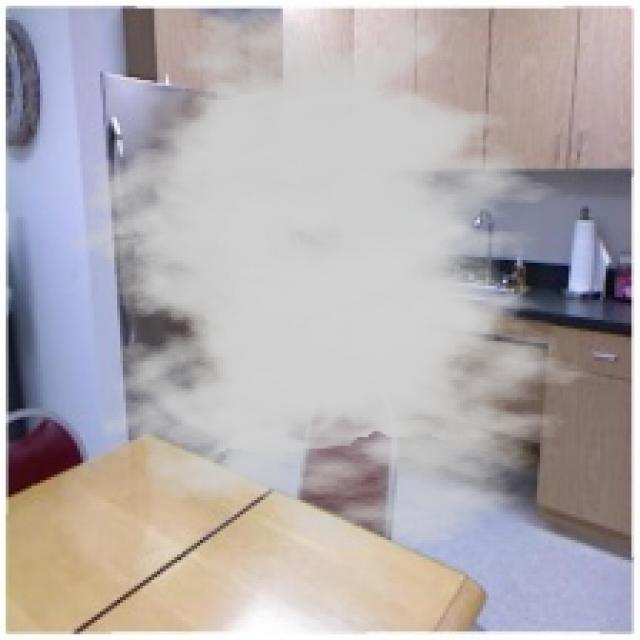smoke: (57, 3, 617, 551)
